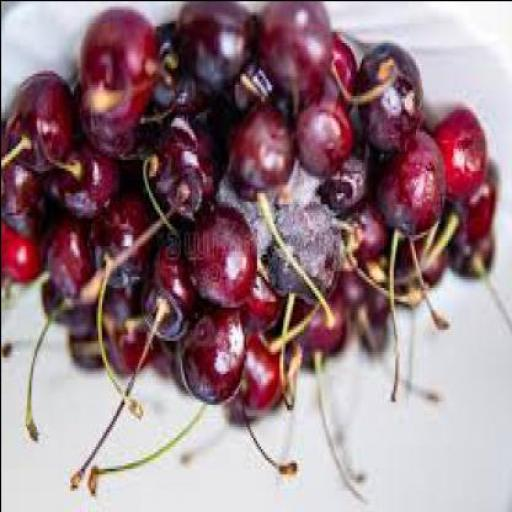biodegradable: (84, 8, 162, 136), (146, 111, 224, 220), (376, 128, 445, 240), (269, 200, 341, 306), (260, 3, 336, 100), (359, 47, 424, 159), (179, 3, 258, 92), (189, 206, 255, 312), (228, 103, 295, 206), (11, 72, 75, 175), (77, 86, 153, 168), (89, 194, 153, 290), (183, 309, 245, 406), (144, 239, 198, 343), (218, 172, 276, 267), (221, 56, 293, 130), (228, 337, 290, 420), (2, 120, 48, 231), (41, 215, 97, 306), (153, 28, 210, 117), (60, 142, 124, 217), (437, 108, 486, 203), (295, 103, 355, 178), (322, 138, 376, 218), (102, 292, 152, 378), (292, 298, 350, 370), (445, 176, 497, 250), (342, 198, 390, 270), (396, 231, 447, 295), (317, 36, 357, 117), (2, 226, 48, 292), (274, 162, 324, 220), (38, 281, 92, 334), (240, 278, 286, 340), (69, 314, 103, 372), (450, 237, 494, 281), (329, 275, 366, 312), (170, 342, 191, 401), (364, 289, 394, 329), (151, 340, 170, 382)
